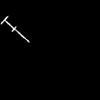double_crochet: (1, 17, 28, 41)
